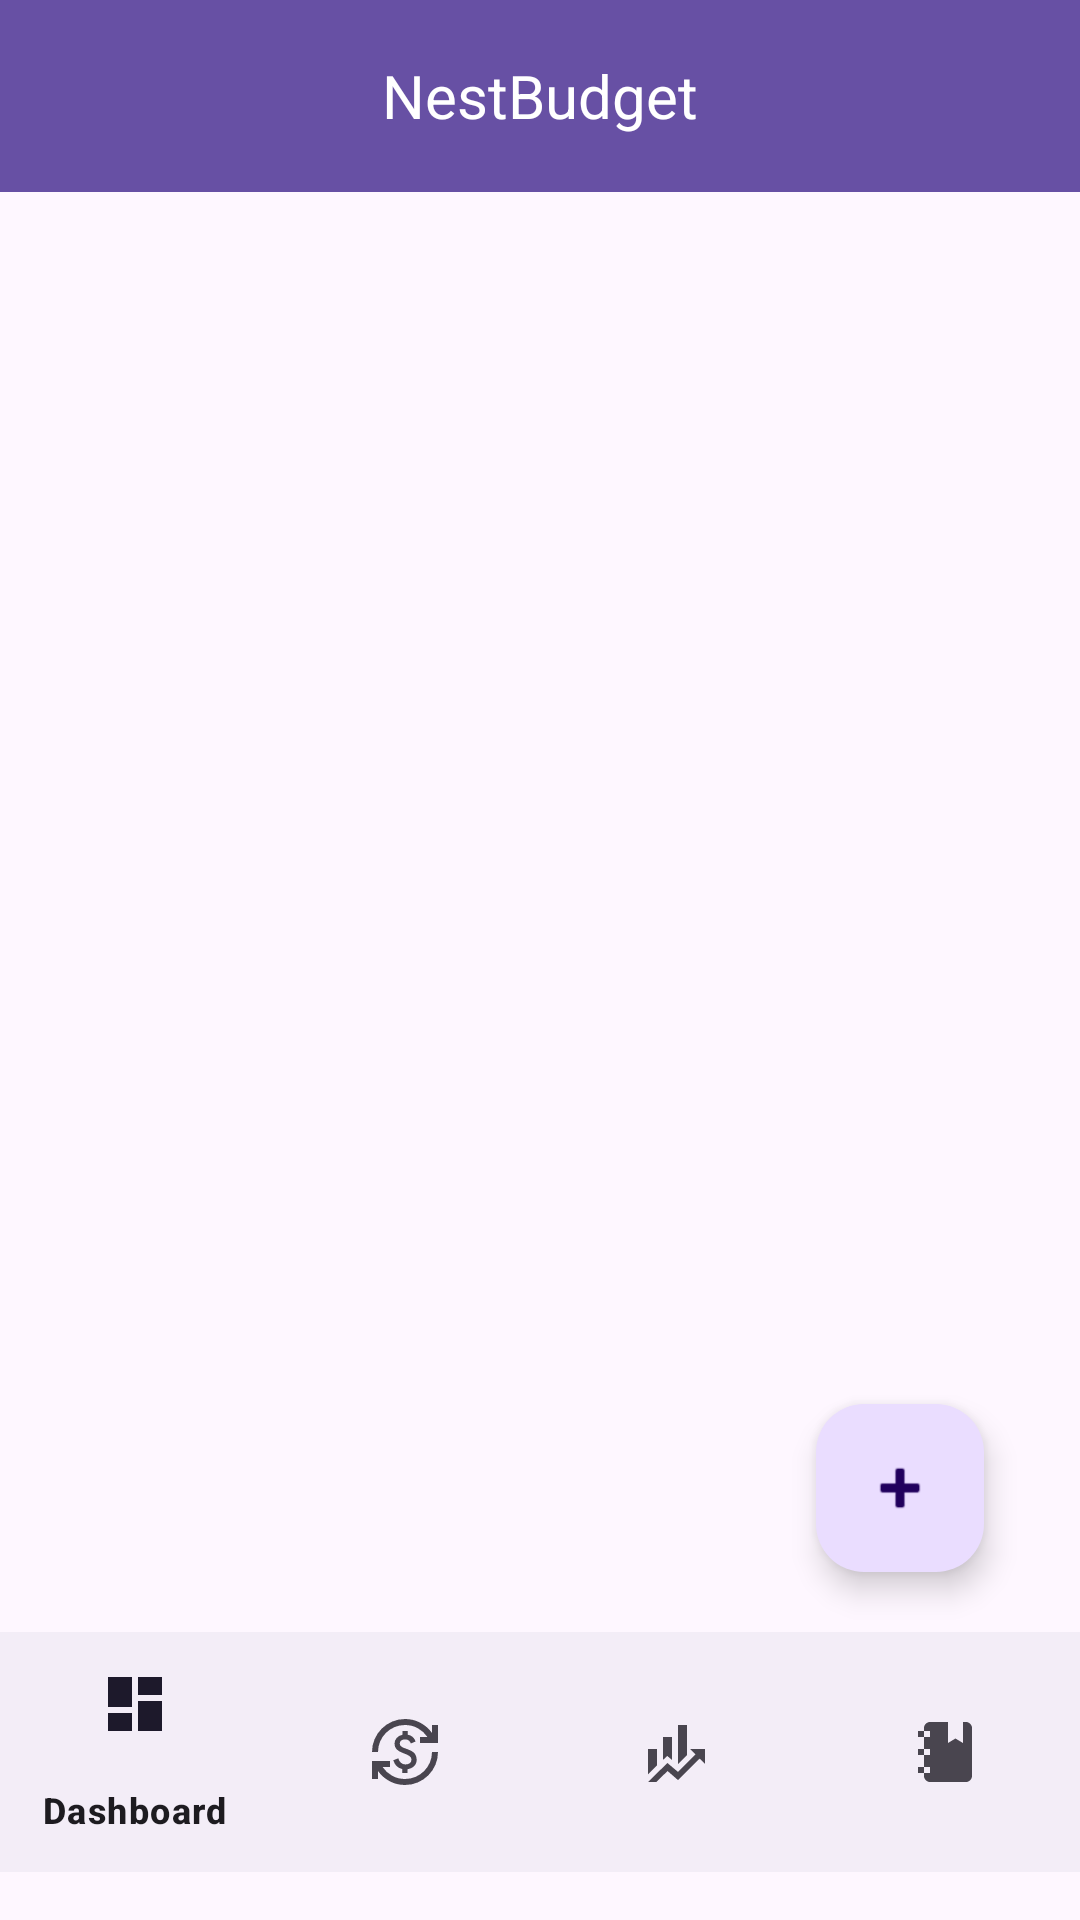

Icons on this 1080w x 1920h Android screen, each with its box as (x1, y1, x2, y2):
add: (816, 1404, 984, 1572)
